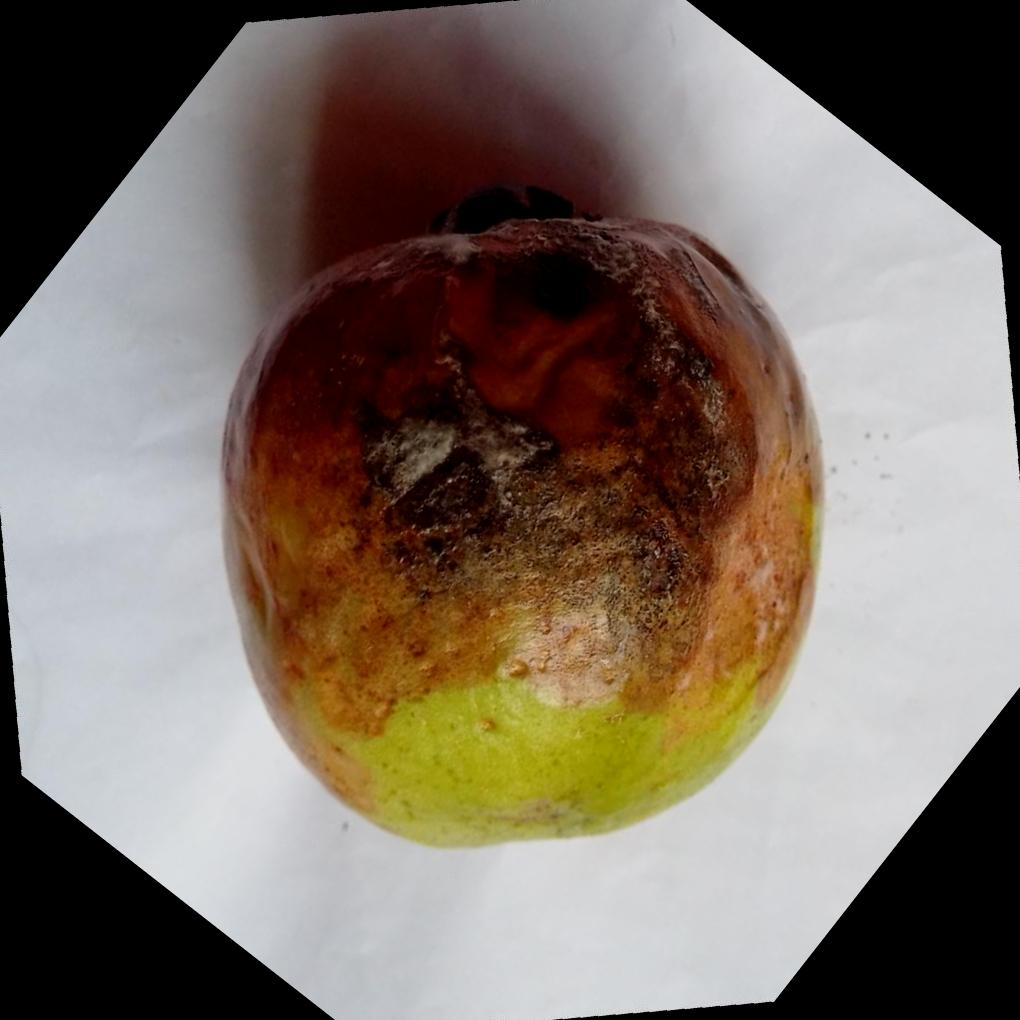FreshOrange: (218, 180, 825, 849)
